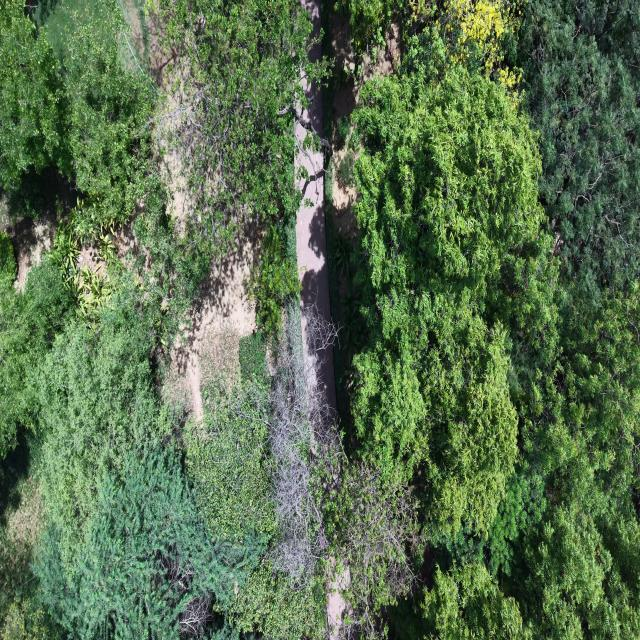DRY_AREA: (163, 226, 258, 420), (164, 233, 257, 419), (163, 234, 255, 419), (295, 122, 336, 412), (295, 122, 335, 408), (325, 11, 399, 131), (331, 11, 399, 128), (0, 203, 56, 291)
VEGETATION_TREE: (0, 0, 639, 639), (0, 2, 323, 637), (352, 3, 639, 637), (351, 47, 556, 550), (0, 0, 310, 330), (352, 67, 544, 536), (506, 2, 639, 637), (159, 0, 327, 331), (0, 0, 167, 319), (35, 448, 261, 638), (185, 335, 323, 637), (161, 0, 326, 247), (517, 2, 639, 305), (37, 296, 173, 562), (0, 0, 153, 233), (0, 235, 74, 638), (56, 3, 154, 240), (0, 234, 73, 456), (326, 460, 418, 636), (336, 0, 524, 81), (185, 376, 274, 541), (0, 439, 61, 639), (0, 2, 64, 189), (421, 561, 522, 639)
